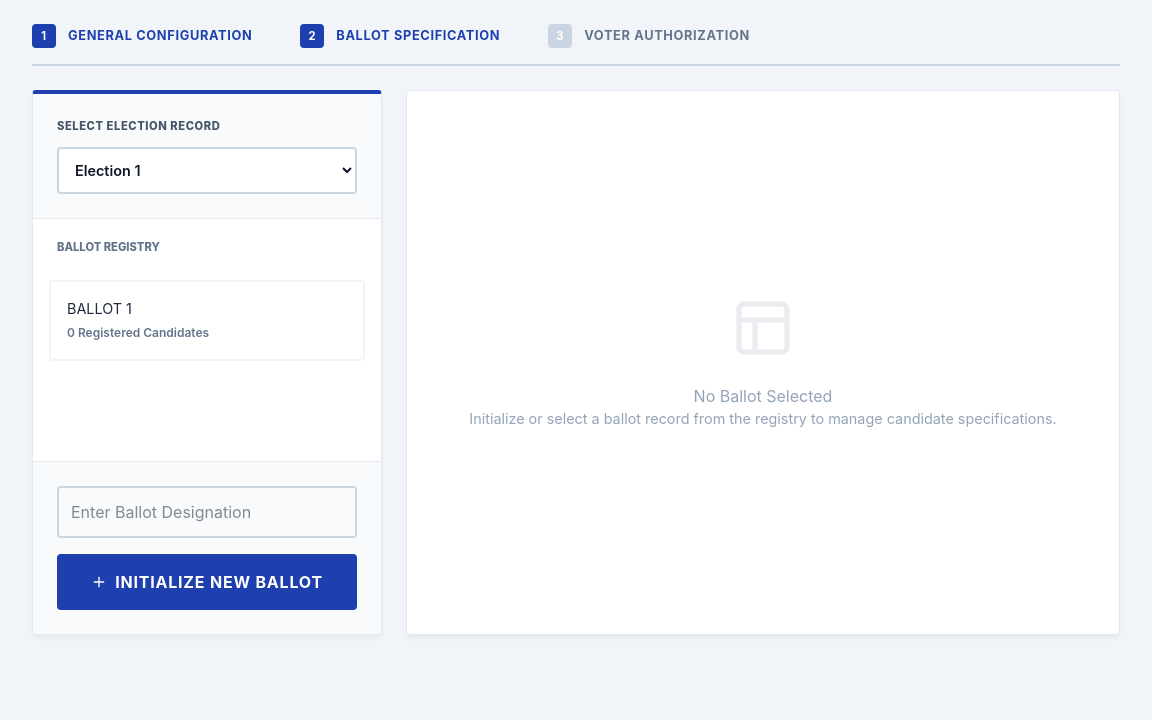
Test case: BallotDesigner › displays candidates list when candidates exist
Expected: the heading "Ballot 1" is shown, [67,300,132,317]
Click the text "Ballot 1". click: (207, 320)
box: [49,280,365,361]
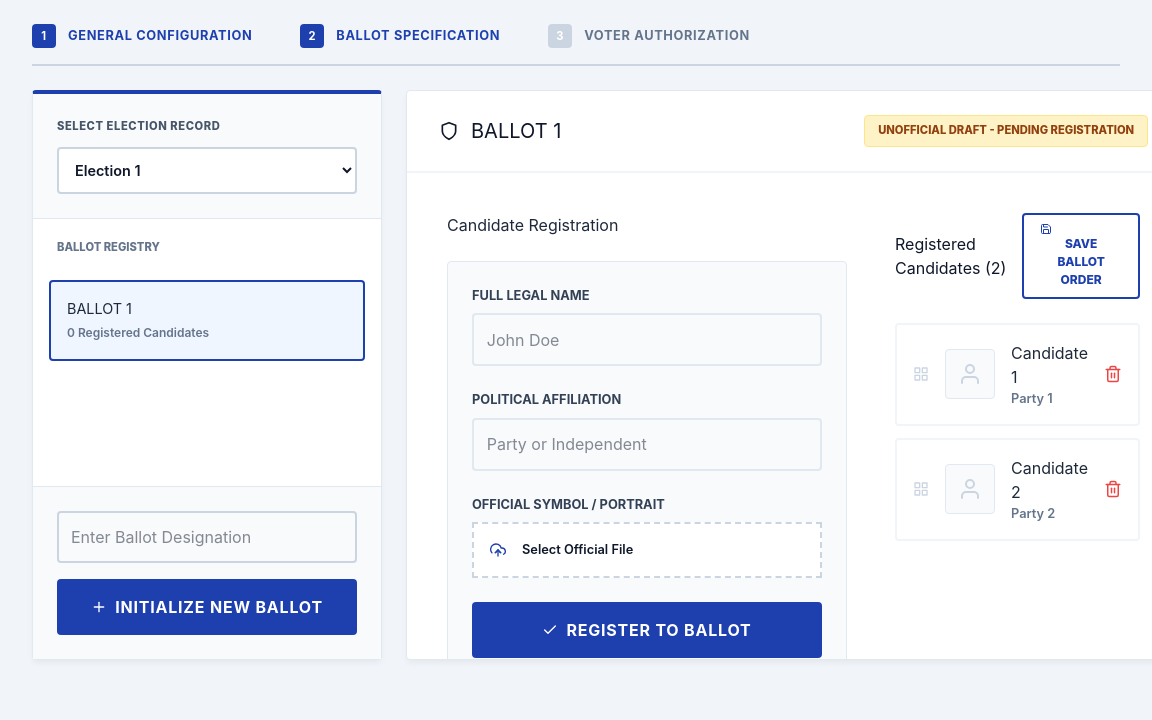
Result: the heading "Candidate 1" is shown at [1011,341,1088,389]
Result: the heading "Candidate 2" is shown at [1011,456,1088,504]
Result: the heading "Registered Candidates (2)" is shown at [895,232,1022,280]
